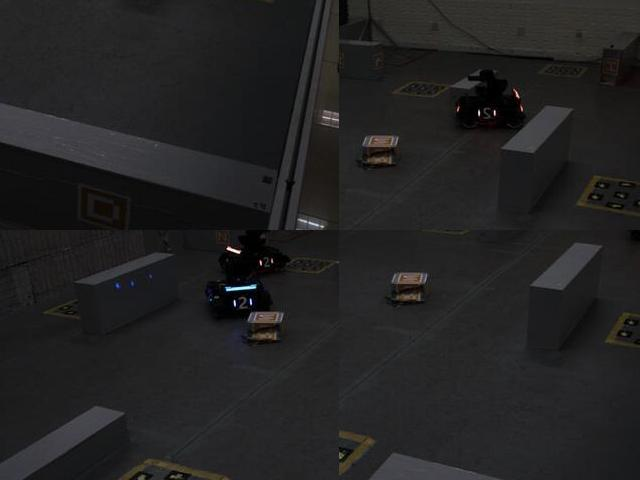armor: (227, 294, 257, 312), (475, 104, 503, 123), (254, 253, 277, 270)
